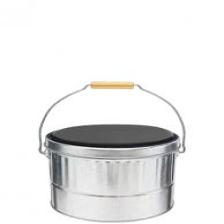metal: (17, 56, 194, 222)
